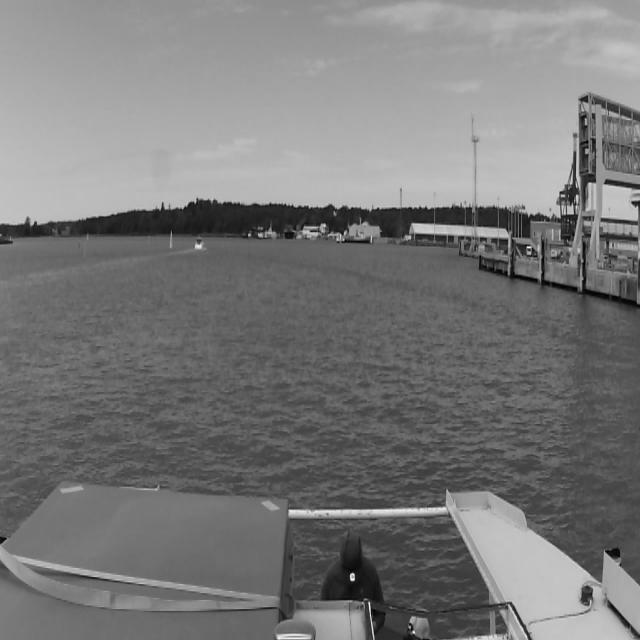buoy: (169, 234, 175, 249)
ship: (193, 237, 203, 251)
